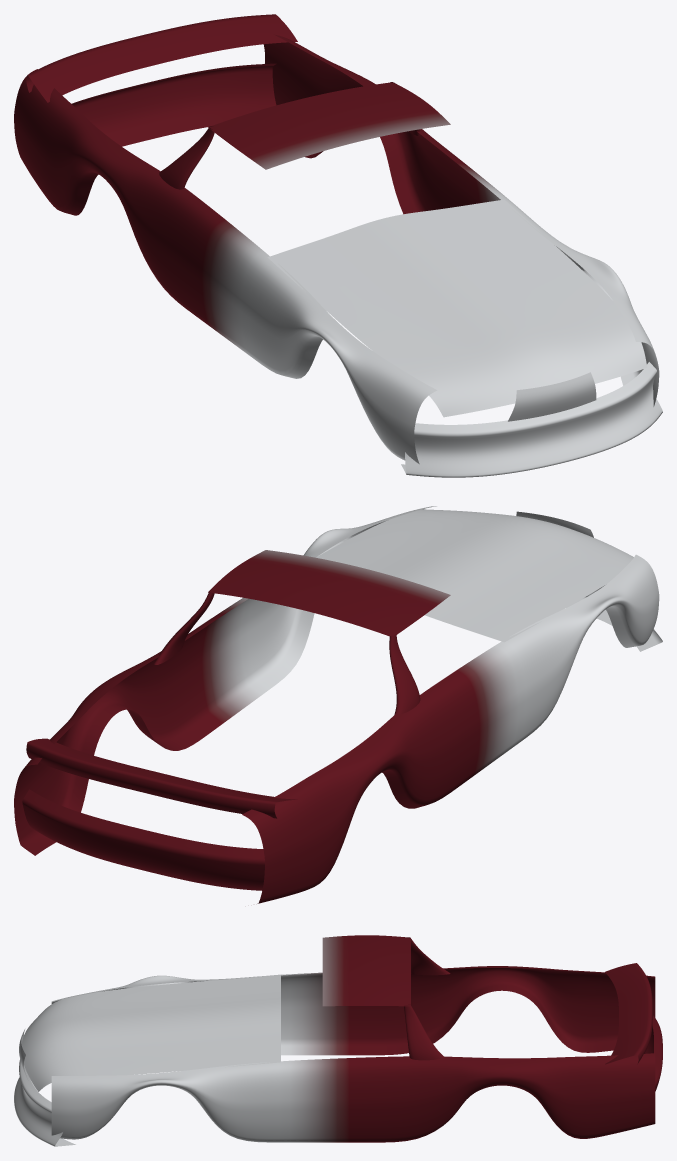
Rendered from brad-camaro-subd.glb.
3 renders of one model, top to bottom at view 1: azimuth 30°, elevation 25°; view 2: azimuth 150°, elevation 25°; view 3: azimuth 270°, elevation 25°, orthographic. The views are drawn at different scales.
Visible parts, largest first — view 1: BradCamaroSubDBody; view 2: BradCamaroSubDBody; view 3: BradCamaroSubDBody.
Part boxes in pixels (box(x1,y1,x2,y2)): BradCamaroSubDBody: box(14, 14, 662, 477); BradCamaroSubDBody: box(14, 506, 662, 903); BradCamaroSubDBody: box(14, 935, 662, 1146).
Size of the model in its own units: 1.96 by 1.14 by 4.99.
